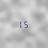five: (24, 20, 28, 28)
one: (19, 20, 23, 28)
